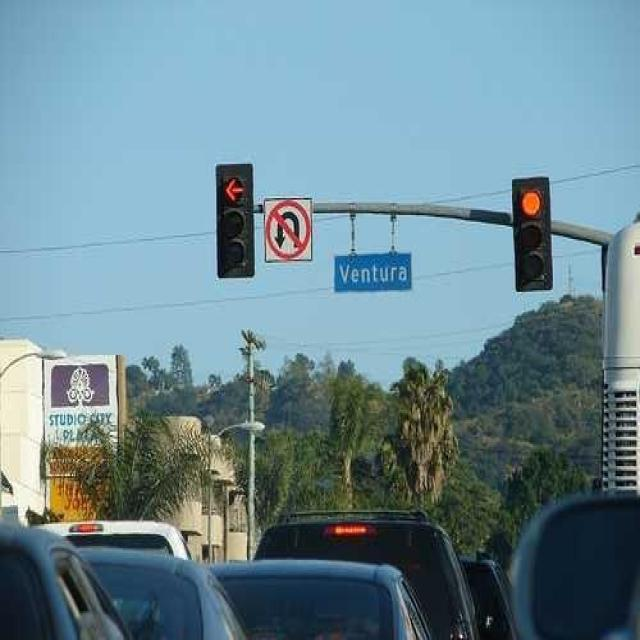Traffic Light -Red-: (511, 172, 554, 290), (215, 157, 255, 278)
